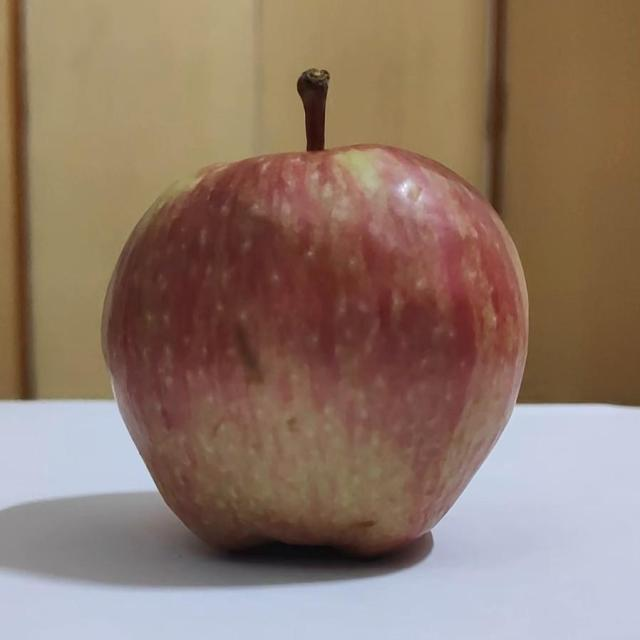Apple: (102, 71, 527, 553)
